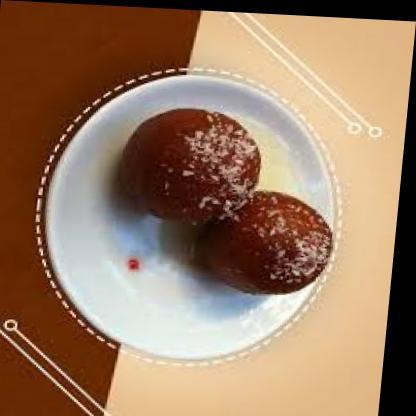gulab_jamun: (120, 104, 267, 223), (194, 186, 340, 294)
